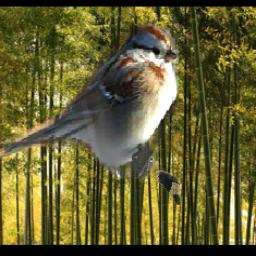Crow: (156, 171, 180, 206)
Sparrow: (0, 22, 180, 179)
